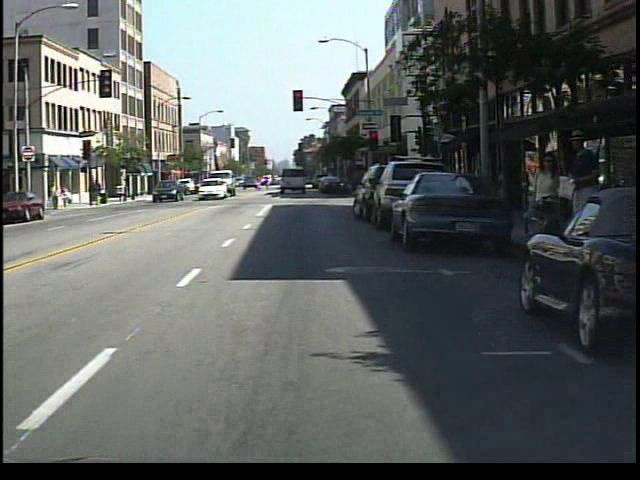person: (563, 124, 602, 278), (525, 146, 562, 278), (48, 181, 62, 214), (59, 185, 74, 211)
